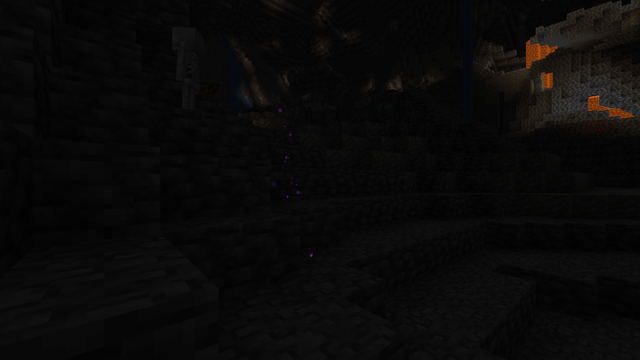squelettes: (171, 23, 205, 104)
